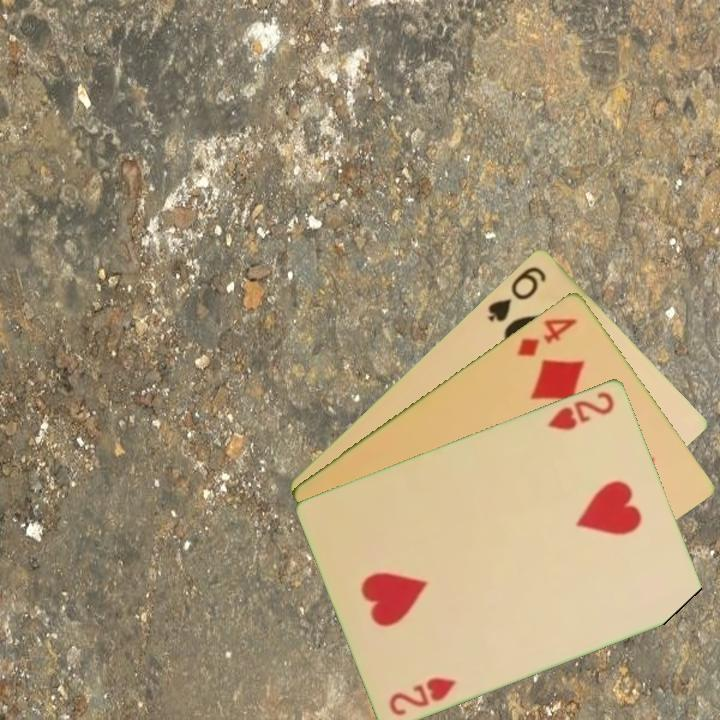2h: (543, 387, 618, 433), (386, 673, 459, 718)
4d: (514, 314, 580, 359)
6s: (484, 262, 549, 325)
